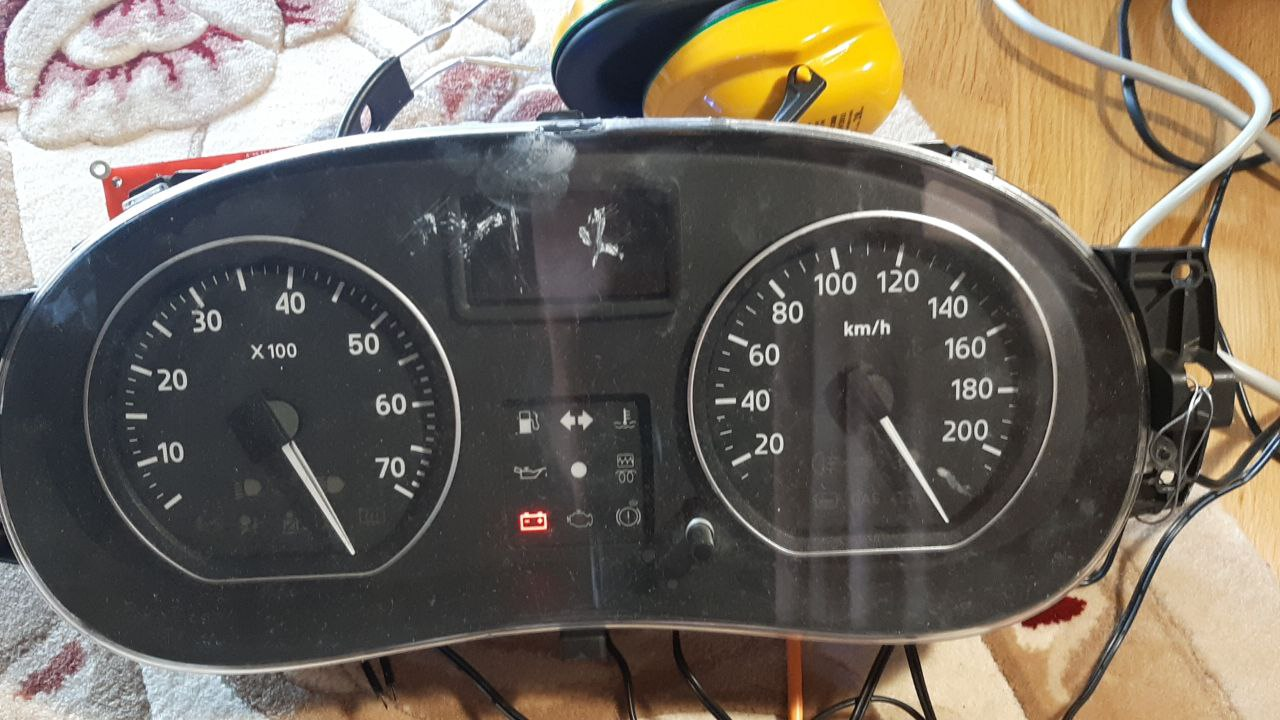accumulator: (517, 512, 552, 534)
